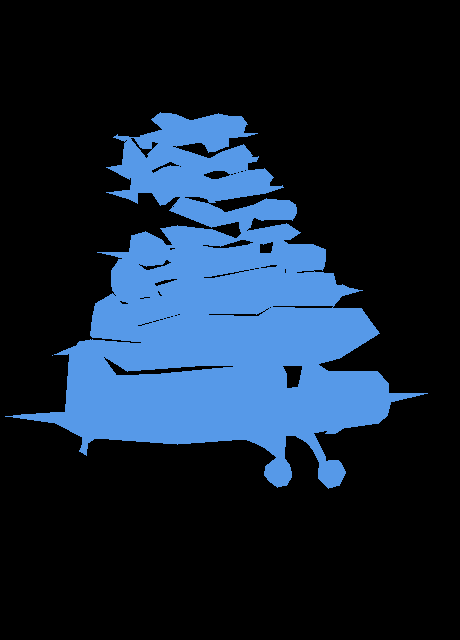Airplane: (5, 339, 427, 488), (52, 306, 380, 371), (90, 265, 363, 343), (111, 238, 326, 303), (97, 223, 300, 267), (106, 161, 284, 206), (106, 137, 259, 179), (113, 112, 258, 152), (169, 196, 297, 233)
